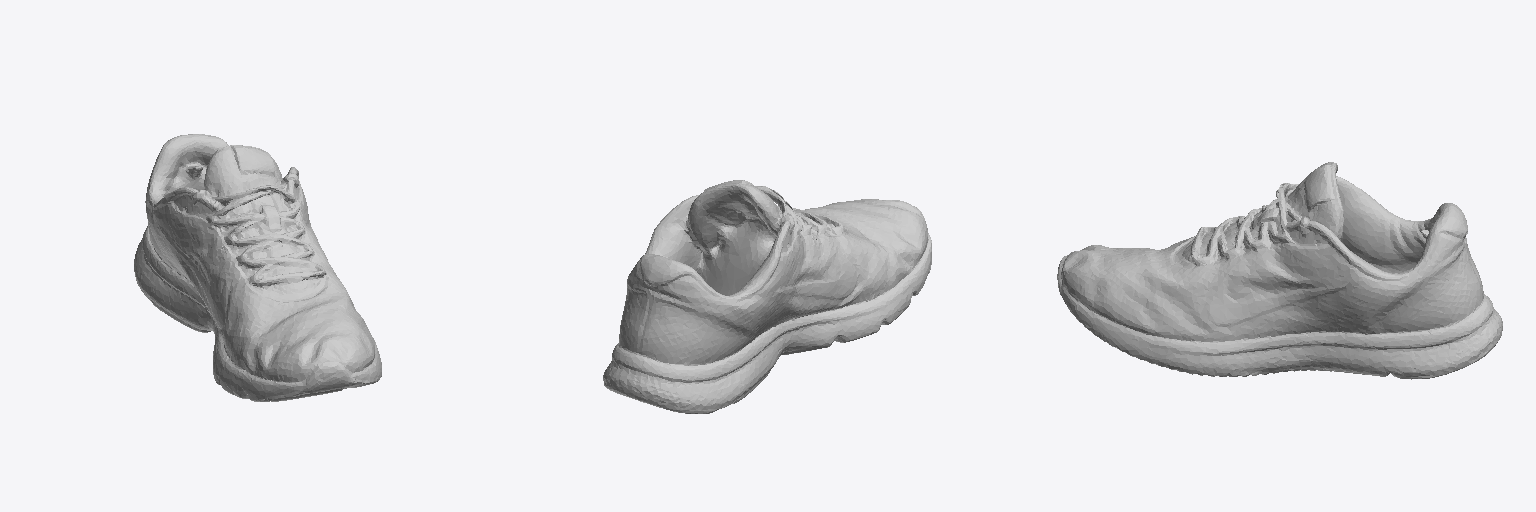
The model's file is shoe.obj.
The picture shows the model from 3 angles: view 1: azimuth 30°, elevation 25°; view 2: azimuth 150°, elevation 25°; view 3: azimuth 270°, elevation 25°; orthographic projection.
Parts seen in each view (by area): view 1: Default; view 2: Default; view 3: Default.
Boxes of the visible parts, <box> form: Default: <box>134,134,381,401</box>; Default: <box>603,180,931,413</box>; Default: <box>1057,162,1502,379</box>.
Bounding box in the file's own units: 125 × 137 × 302.